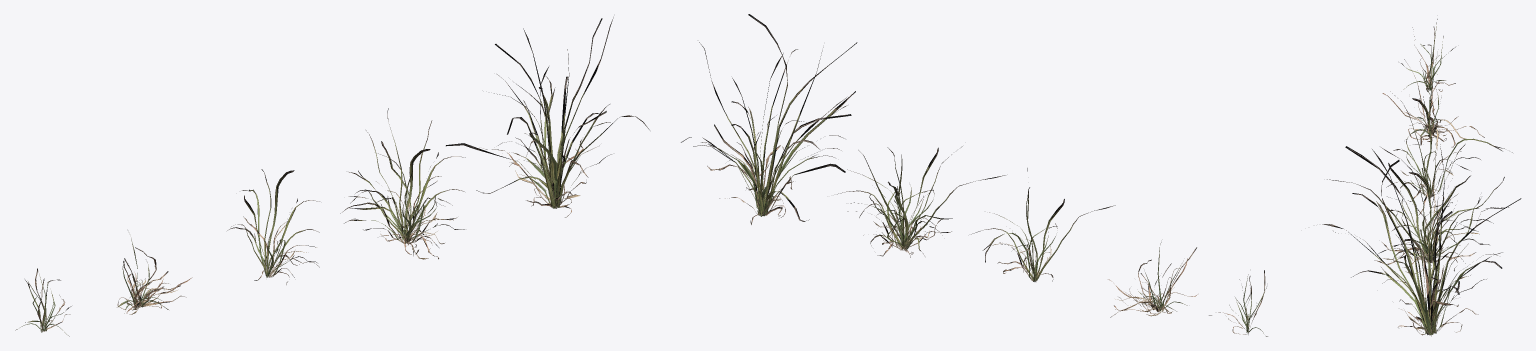
Rendered from grass_medium_02.glb.
The picture shows the model from 3 angles, left to right: view 1: azimuth 30°, elevation 25°; view 2: azimuth 150°, elevation 25°; view 3: azimuth 270°, elevation 25°; orthographic projection. The views are drawn at different scales.
Parts seen in each view (by area): view 1: grass_medium_02_e, grass_medium_02_d, grass_medium_02_c, grass_medium_02_b, grass_medium_02_a; view 2: grass_medium_02_e, grass_medium_02_d, grass_medium_02_c, grass_medium_02_b, grass_medium_02_a; view 3: grass_medium_02_e, grass_medium_02_d, grass_medium_02_c, grass_medium_02_b, grass_medium_02_a.
Part boxes in pixels (x1,y1,x2,y2): grass_medium_02_e: (446,17,649,217); grass_medium_02_d: (340,108,465,259); grass_medium_02_c: (227,169,319,284); grass_medium_02_b: (117,238,192,314); grass_medium_02_a: (15,268,71,336); grass_medium_02_e: (681,14,857,224); grass_medium_02_d: (837,146,1005,257); grass_medium_02_c: (971,168,1115,281); grass_medium_02_b: (1108,242,1197,317); grass_medium_02_a: (1209,270,1267,336); grass_medium_02_e: (1322,144,1521,336); grass_medium_02_d: (1327,144,1508,273); grass_medium_02_c: (1386,91,1512,215); grass_medium_02_b: (1382,58,1484,149); grass_medium_02_a: (1401,19,1455,91).
Bounding box in the file's own units: 1.31 × 0.4053 × 0.4326.
Materials: 1 (1 with a texture image).
